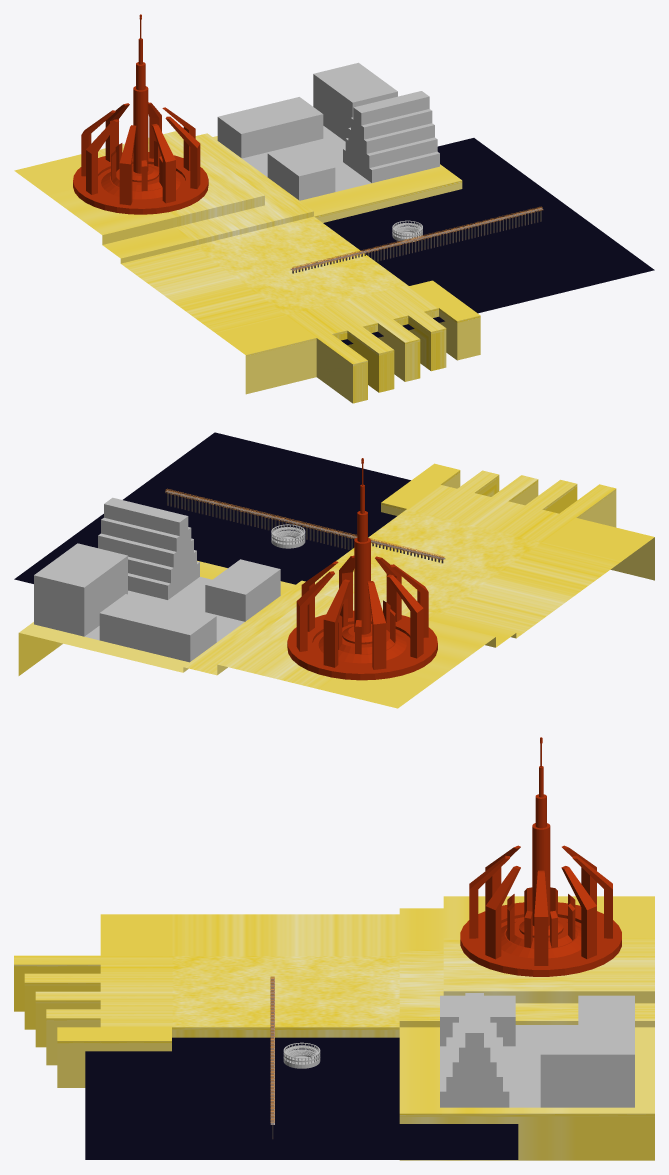
File: stage.obj
3 views of the same model, one above another, from view 1: azimuth 30°, elevation 25°; view 2: azimuth 150°, elevation 25°; view 3: azimuth 270°, elevation 25° (orthographic). The views are drawn at different scales.
Visible parts, largest first — view 1: 地盤, 地面, 町, 塔, 橋; view 2: 地盤, 町, 地面, 塔, 橋, 円柱; view 3: 地盤, 地面, 町, 塔, 円柱, 橋.
Part boxes in pixels (x1,y1,x2,y2): 地盤: (14,131,480,403); 地面: (323,138,654,345); 町: (217,62,439,200); 塔: (73,14,208,214); 橋: (290,206,543,273); 地盤: (18,463,654,708); 町: (34,497,280,662); 地面: (14,432,410,584); 塔: (287,458,437,680); 橋: (165,488,445,563); 円柱: (271,524,305,548); 地盤: (14,896,654,1160); 地面: (85,1037,518,1159); 町: (440,993,634,1107); 塔: (460,737,621,976); 円柱: (283,1042,320,1068); 橋: (270,976,274,1139).
Size of the model in its own units: 5142 by 2752 by 5921.
